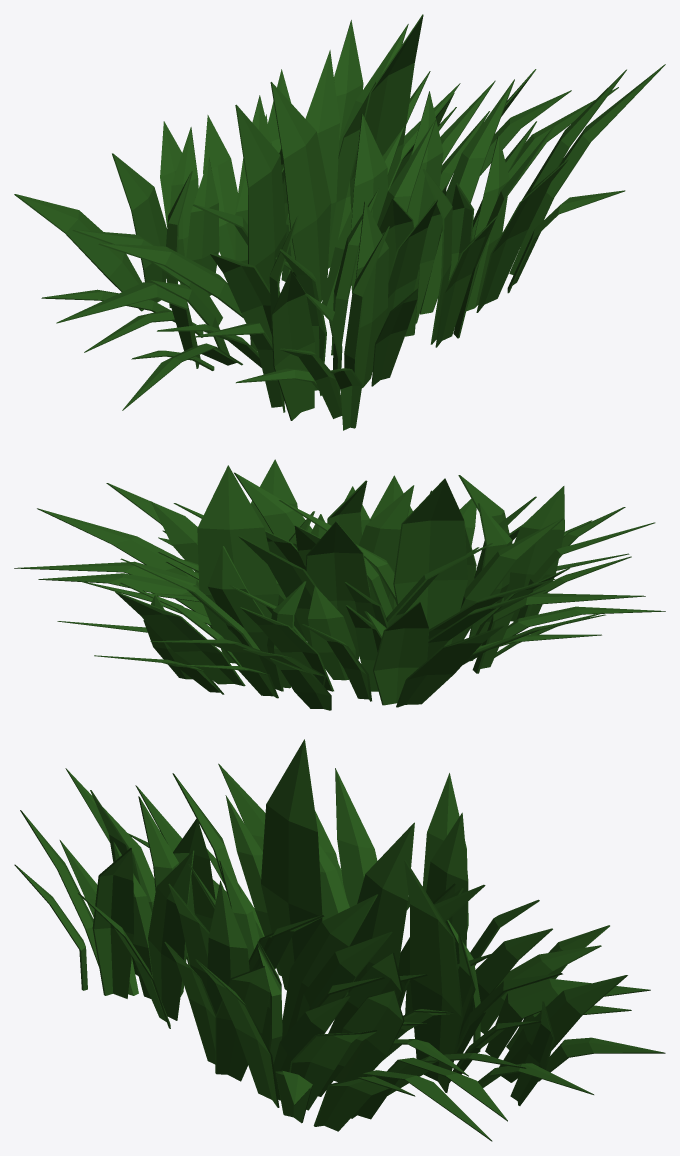
The model's file is cao2.FBX.
The picture shows the model from 3 angles, top to bottom: view 1: azimuth 30°, elevation 25°; view 2: azimuth 150°, elevation 25°; view 3: azimuth 270°, elevation 25°; orthographic projection. The views are drawn at different scales.
Parts seen in each view (by area): view 1: c079; view 2: c079; view 3: c079.
Boxes of the visible parts, left/top/right/bottom form: c079: left=14, top=14, right=665, bottom=430; c079: left=14, top=459, right=665, bottom=710; c079: left=14, top=739, right=665, bottom=1141.
Size of the model in its own units: 1.86 by 0.6153 by 1.47.
